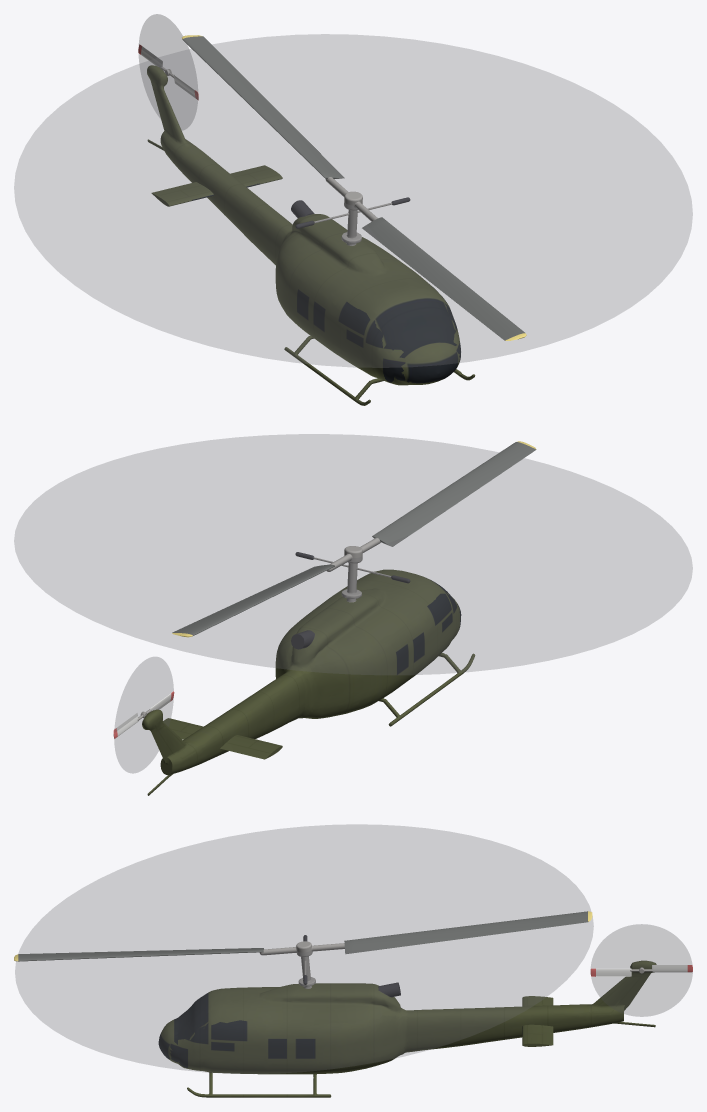
The picture shows the model from 3 angles, top to bottom: view 1: azimuth 30°, elevation 25°; view 2: azimuth 150°, elevation 25°; view 3: azimuth 270°, elevation 25°; orthographic projection. The views are drawn at different scales.
Visible parts, largest first — view 1: fsim:disc:0:600, airframe, fsim:blades:0:600, fsim:disc:1:600, fsim:elevator (×2), fsim:propeller:0; view 2: fsim:disc:0:600, airframe, fsim:blades:0:600, fsim:disc:1:600, fsim:propeller:0, fsim:elevator; view 3: fsim:disc:0:600, airframe, fsim:disc:1:600, fsim:blades:0:600, fsim:propeller:0, fsim:blades:1:600, fsim:elevator.
Part boxes in pixels (x1,y1,x2,y2): fsim:disc:0:600: (14,34,692,367); airframe: (147,65,475,405); fsim:blades:0:600: (182,35,526,340); fsim:disc:1:600: (139,14,197,129); fsim:elevator (×2): (151,165,282,206); fsim:propeller:0: (295,177,410,228); fsim:disc:0:600: (14,434,692,674); airframe: (142,563,475,795); fsim:blades:0:600: (172,441,536,637); fsim:disc:1:600: (114,657,173,773); fsim:propeller:0: (295,538,410,583); fsim:elevator: (220,735,282,759); fsim:disc:0:600: (15,824,593,1073); airframe: (158,956,656,1097); fsim:disc:1:600: (591,924,692,1016); fsim:blades:0:600: (14,911,592,961); fsim:propeller:0: (259,935,344,984); fsim:blades:1:600: (590,965,692,976); fsim:elevator: (522,1024,553,1046).
Bounding box in the file's own units: 14.71 × 4.55 × 17.18.
9 materials, 1 textured.
